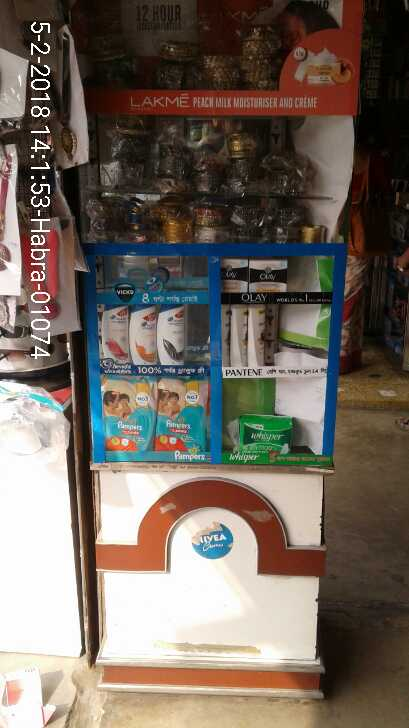vicks: (142, 275, 173, 294)
